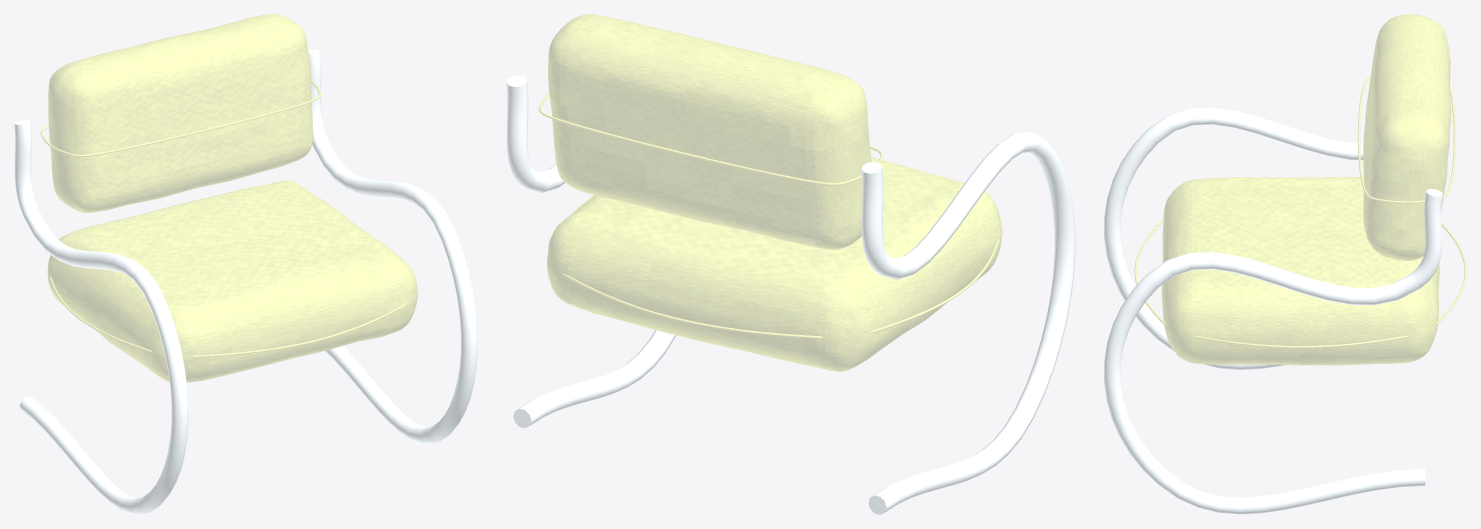
Rendered from ref07_06.glb.
3 renders of one model, left to right at view 1: azimuth 30°, elevation 25°; view 2: azimuth 150°, elevation 25°; view 3: azimuth 270°, elevation 25°, orthographic. The views are drawn at different scales.
Parts seen in each view (by area): view 1: ref07_06; view 2: ref07_06; view 3: ref07_06.
Part boxes in pixels (x1,y1,x2,y2): ref07_06: (14, 14, 477, 514); ref07_06: (506, 14, 1075, 514); ref07_06: (1104, 14, 1466, 514).
Size of the model in its own units: 0.7818 by 0.902 by 0.7853.
Materials: 2 (1 with a texture image).
